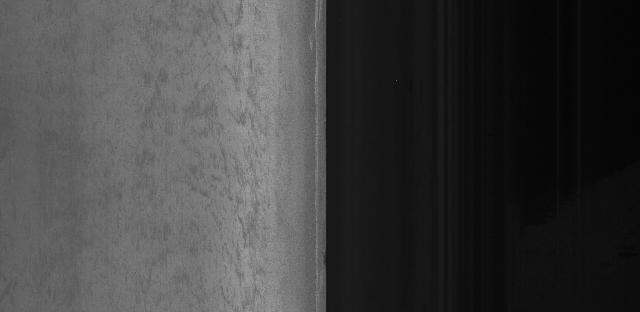silk_spot: (202, 22, 282, 290)
